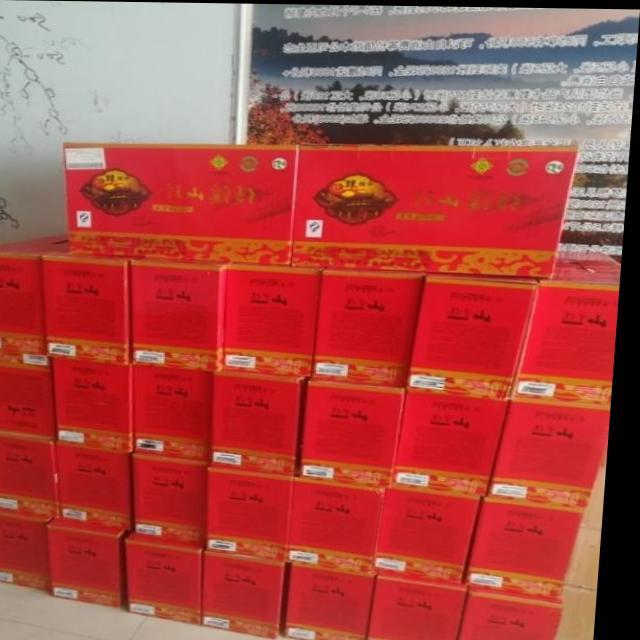box: (294, 143, 577, 278), (65, 142, 302, 264), (516, 245, 624, 409), (410, 273, 549, 400), (317, 264, 434, 387), (496, 401, 617, 506), (477, 496, 595, 601), (398, 393, 517, 497), (224, 260, 328, 378), (132, 256, 236, 370), (307, 376, 412, 486), (47, 244, 144, 362), (383, 484, 488, 584), (297, 473, 392, 575), (221, 372, 312, 475), (137, 363, 222, 463), (0, 234, 72, 350), (57, 355, 138, 454), (209, 545, 295, 636), (132, 532, 214, 626), (219, 466, 301, 557), (291, 561, 384, 640), (54, 522, 138, 609), (61, 444, 142, 532), (140, 453, 215, 545), (377, 575, 476, 640), (378, 576, 478, 640), (465, 586, 576, 640), (0, 431, 67, 519), (0, 349, 60, 440), (0, 509, 65, 590)
